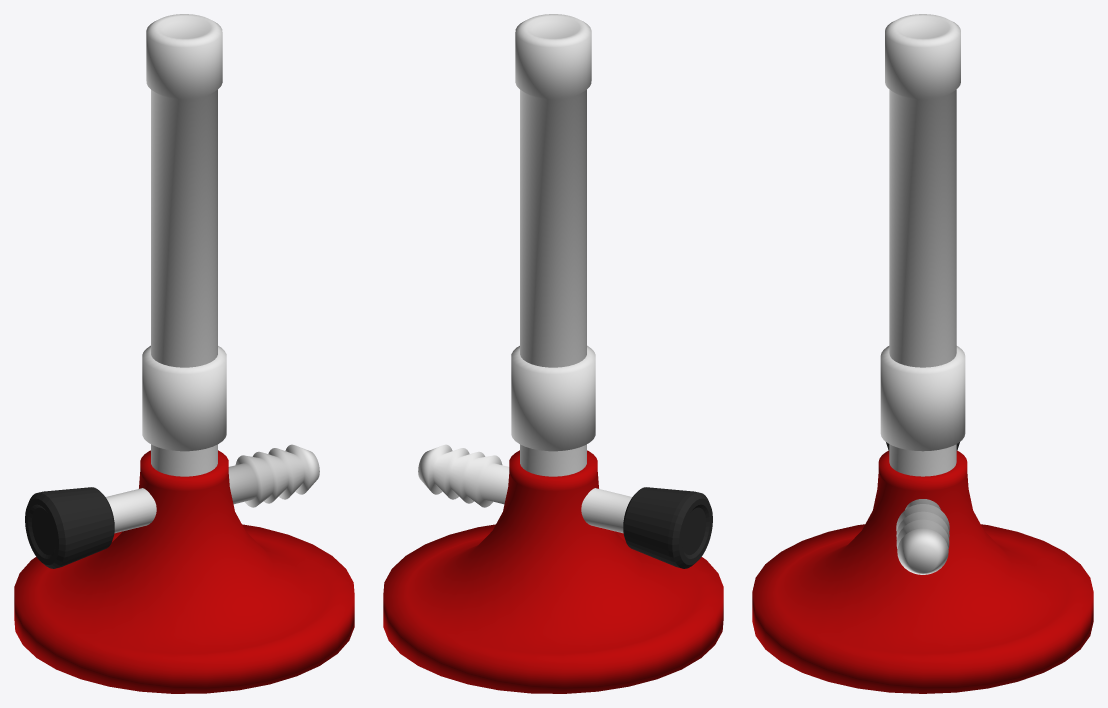
Rendered from bunsen_burner.fbx.
3 renders of one model, left to right at view 1: azimuth 30°, elevation 25°; view 2: azimuth 150°, elevation 25°; view 3: azimuth 270°, elevation 25°, orthographic.
Parts seen in each view (by area): view 1: Cylinder, Cylinder.001, Cylinder.002, Cylinder.004, Cylinder.003; view 2: Cylinder, Cylinder.001, Cylinder.002, Cylinder.004, Cylinder.003; view 3: Cylinder, Cylinder.001, Cylinder.002, Cylinder.003.
Part boxes in pixels (x1,y1,x2,y2): Cylinder: (14, 450, 354, 693); Cylinder.001: (146, 14, 222, 476); Cylinder.002: (142, 345, 226, 451); Cylinder.004: (25, 487, 114, 568); Cylinder.003: (105, 444, 319, 533); Cylinder: (383, 450, 723, 693); Cylinder.001: (515, 14, 591, 476); Cylinder.002: (511, 345, 595, 451); Cylinder.004: (623, 487, 712, 568); Cylinder.003: (418, 444, 632, 533); Cylinder: (752, 450, 1093, 693); Cylinder.001: (885, 14, 960, 476); Cylinder.002: (880, 346, 965, 451); Cylinder.003: (896, 499, 949, 574).
Bounding box in the file's own units: 25.98 × 49.93 × 25.98.
